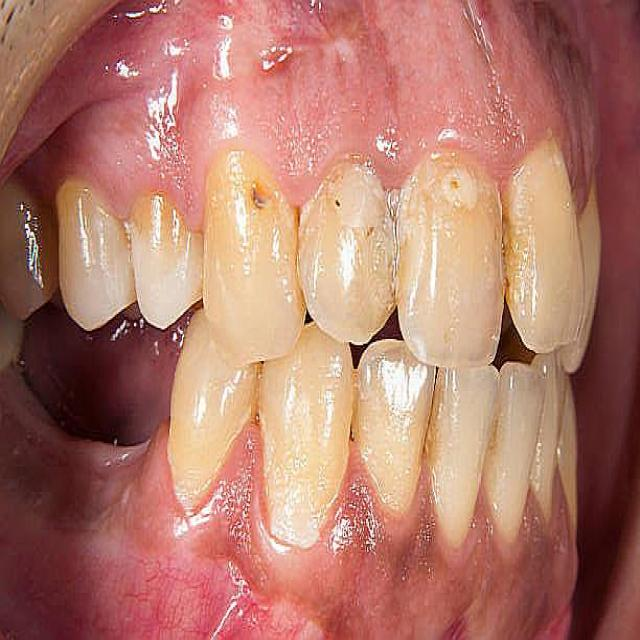redness: (342, 451, 380, 550), (226, 434, 265, 521), (520, 477, 549, 545), (413, 479, 441, 544)
